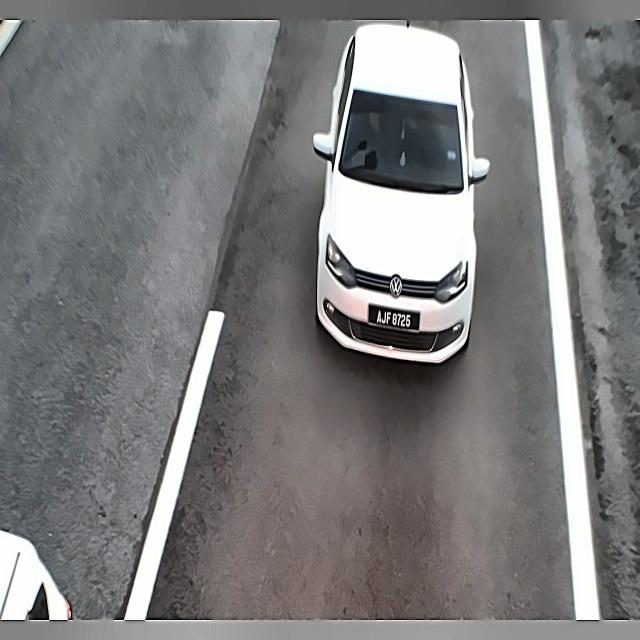car: (366, 304, 423, 337)
